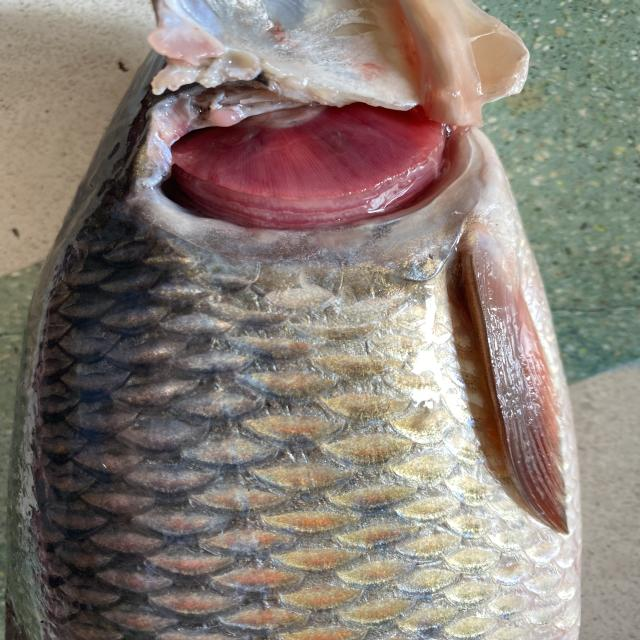Fresh: (100, 78, 524, 270)
